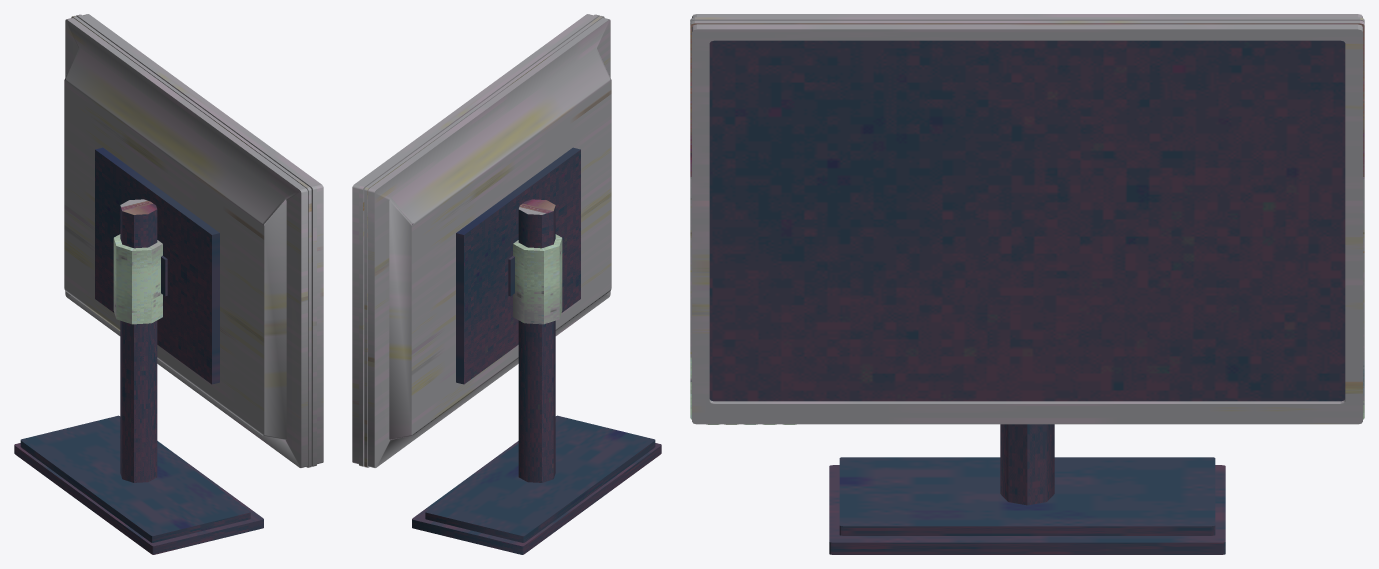
The model's file is StandardMonitor.fbx.
3 renders of one model, left to right at view 1: azimuth 30°, elevation 25°; view 2: azimuth 150°, elevation 25°; view 3: azimuth 270°, elevation 25°, orthographic. The views are drawn at different scales.
Visible parts, largest first — view 1: Cube.002; view 2: Cube.002; view 3: Cube.002.
Boxes of the visible parts, box(x1,y1,x2,y2) form: Cube.002: box(14, 14, 323, 554); Cube.002: box(352, 14, 661, 554); Cube.002: box(690, 14, 1364, 554).
Size of the model in its own units: 29.96 by 88.51 by 101.
